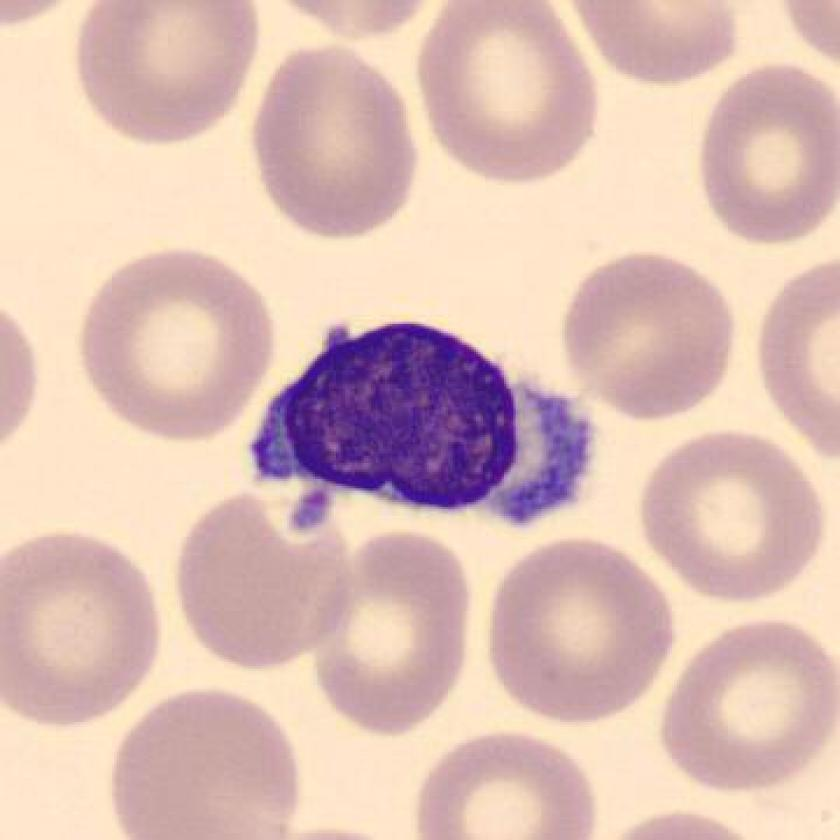lymphocyte: (232, 290, 610, 566)
